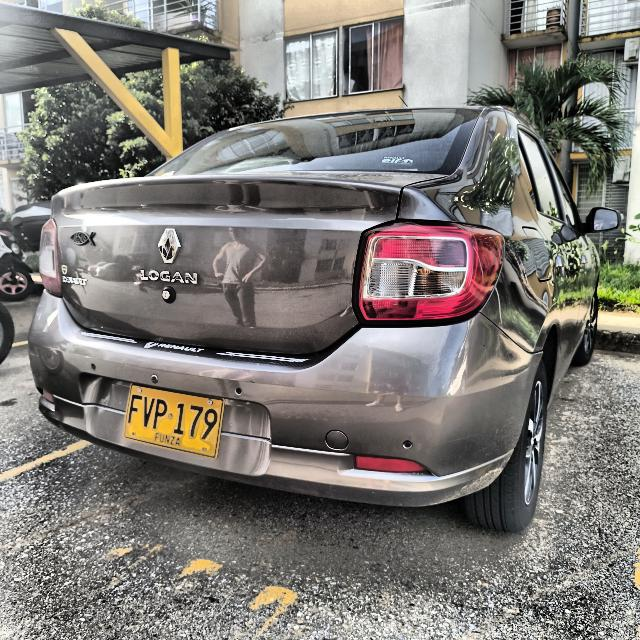plate: (124, 384, 224, 458)
